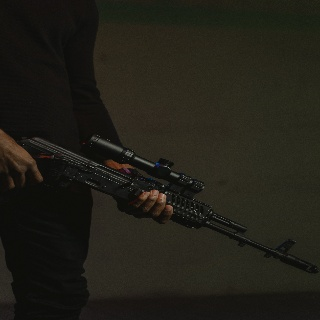rifle: (13, 131, 320, 276)
